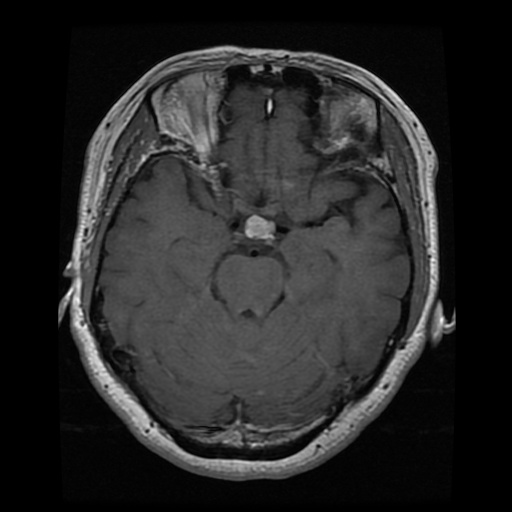pituitary: (244, 214, 277, 244)
